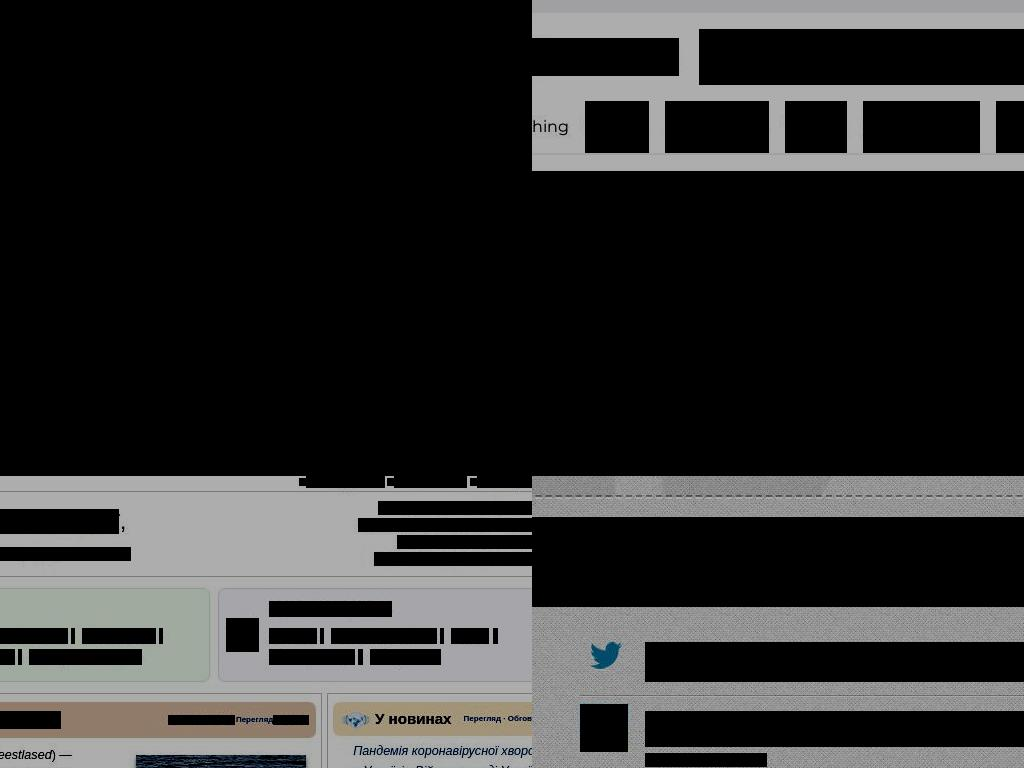button: (178, 297, 418, 476), (0, 297, 162, 476), (434, 297, 532, 476), (121, 95, 231, 225), (243, 95, 353, 225), (365, 95, 475, 225), (0, 95, 109, 225), (863, 101, 980, 153), (487, 95, 532, 225), (532, 38, 679, 76), (665, 101, 769, 153), (585, 101, 649, 153), (785, 101, 847, 153), (532, 101, 569, 153), (996, 101, 1024, 153)
field: (699, 29, 1024, 85)
iframe: (532, 517, 1024, 607)
image: (0, 0, 532, 337), (532, 171, 1024, 476), (532, 251, 1024, 431), (178, 297, 418, 476), (0, 297, 162, 424), (434, 297, 532, 476), (532, 38, 679, 76), (580, 704, 628, 752), (226, 618, 259, 652), (341, 712, 371, 729), (111, 463, 130, 475), (27, 462, 42, 476), (299, 478, 307, 486), (387, 478, 395, 486), (470, 478, 478, 486)
link: (353, 744, 532, 759), (36, 509, 120, 534), (29, 649, 142, 665), (0, 547, 127, 561), (331, 628, 437, 644), (269, 649, 355, 665), (667, 711, 747, 727), (82, 628, 156, 644), (370, 649, 441, 665), (413, 518, 485, 532), (896, 711, 958, 727), (306, 476, 385, 488), (269, 601, 326, 617), (394, 476, 467, 488), (269, 628, 317, 644), (479, 501, 532, 515), (347, 601, 392, 617), (26, 628, 68, 644), (477, 476, 532, 488), (397, 535, 443, 549), (451, 628, 489, 644), (444, 552, 487, 566), (415, 764, 532, 768), (168, 715, 211, 725), (503, 518, 532, 532), (374, 552, 403, 566), (235, 715, 273, 725), (463, 714, 501, 724), (280, 715, 309, 725), (507, 714, 532, 724), (353, 764, 405, 768), (218, 715, 230, 725)
text: (0, 24, 532, 58), (645, 711, 1024, 747), (739, 447, 1024, 476), (645, 642, 1024, 662), (645, 662, 1024, 682), (255, 161, 341, 193), (377, 161, 463, 193), (745, 711, 896, 727), (0, 177, 97, 193), (0, 197, 97, 213), (378, 501, 480, 515), (375, 710, 454, 728), (133, 177, 219, 193), (133, 197, 219, 213), (255, 197, 341, 213), (377, 197, 463, 213), (443, 535, 532, 549), (456, 264, 528, 280), (0, 711, 61, 729), (499, 161, 532, 193), (645, 753, 720, 767), (0, 747, 53, 762), (0, 263, 43, 281), (358, 518, 413, 532), (720, 753, 767, 767), (486, 552, 532, 566), (402, 552, 445, 566), (0, 434, 39, 449), (499, 197, 532, 213), (326, 601, 349, 617), (6, 628, 28, 644), (645, 711, 667, 727), (51, 747, 72, 762), (484, 518, 505, 532), (133, 461, 148, 476), (45, 461, 57, 476), (119, 509, 126, 534), (493, 628, 498, 644), (358, 649, 363, 665), (211, 715, 219, 725), (229, 715, 237, 725), (273, 715, 281, 725), (501, 714, 509, 724), (126, 547, 131, 561), (71, 628, 75, 644), (159, 628, 163, 644), (18, 649, 22, 665), (320, 628, 324, 644), (440, 628, 444, 644), (403, 764, 415, 768)
